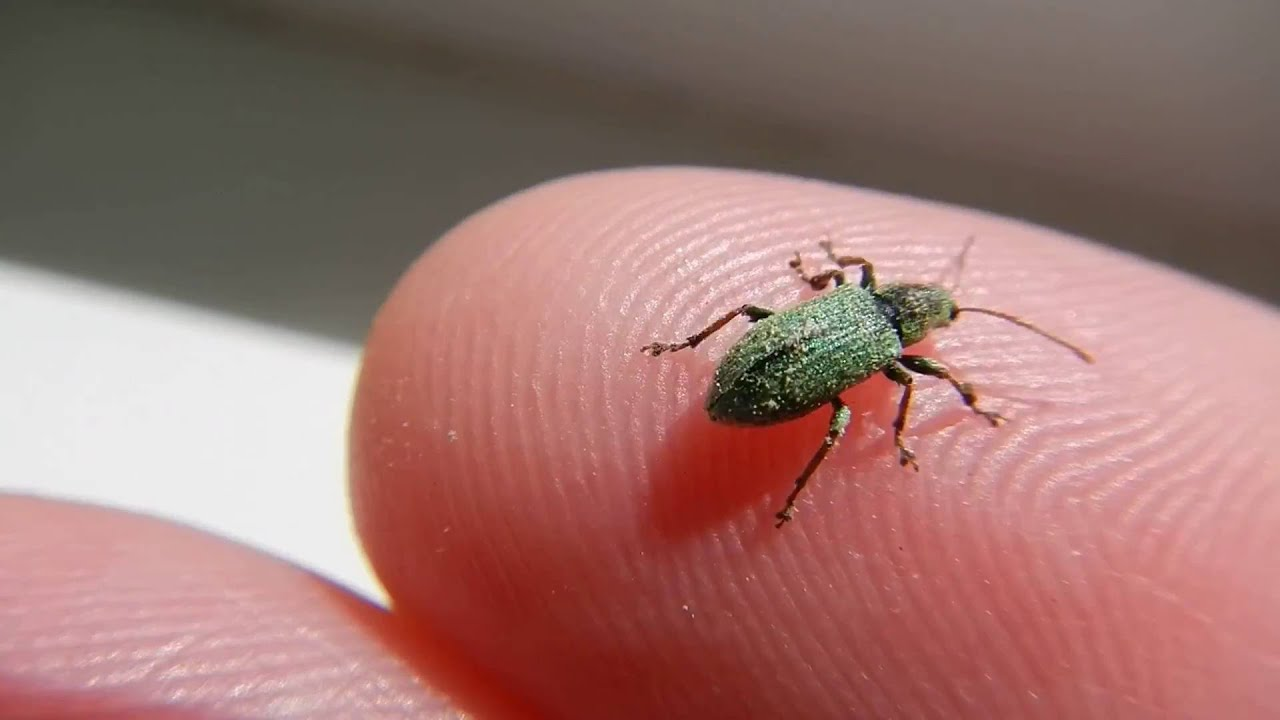dolgonosik: (635, 232, 1095, 530)
